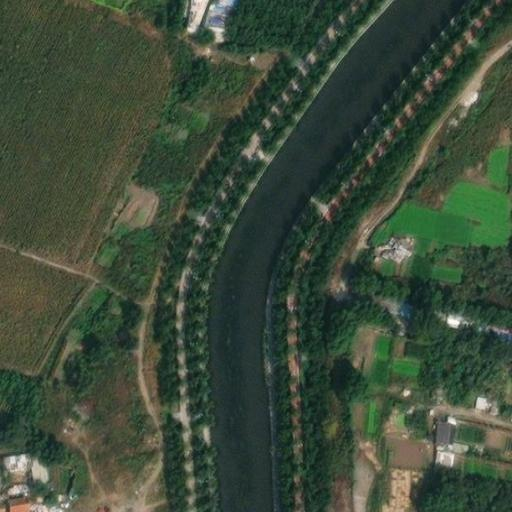building: (395, 294, 422, 320), (430, 418, 453, 447), (439, 306, 466, 330), (3, 446, 29, 468), (6, 491, 31, 512), (431, 447, 455, 468), (185, 0, 207, 18), (470, 391, 490, 410), (206, 0, 229, 16), (0, 487, 6, 499)
